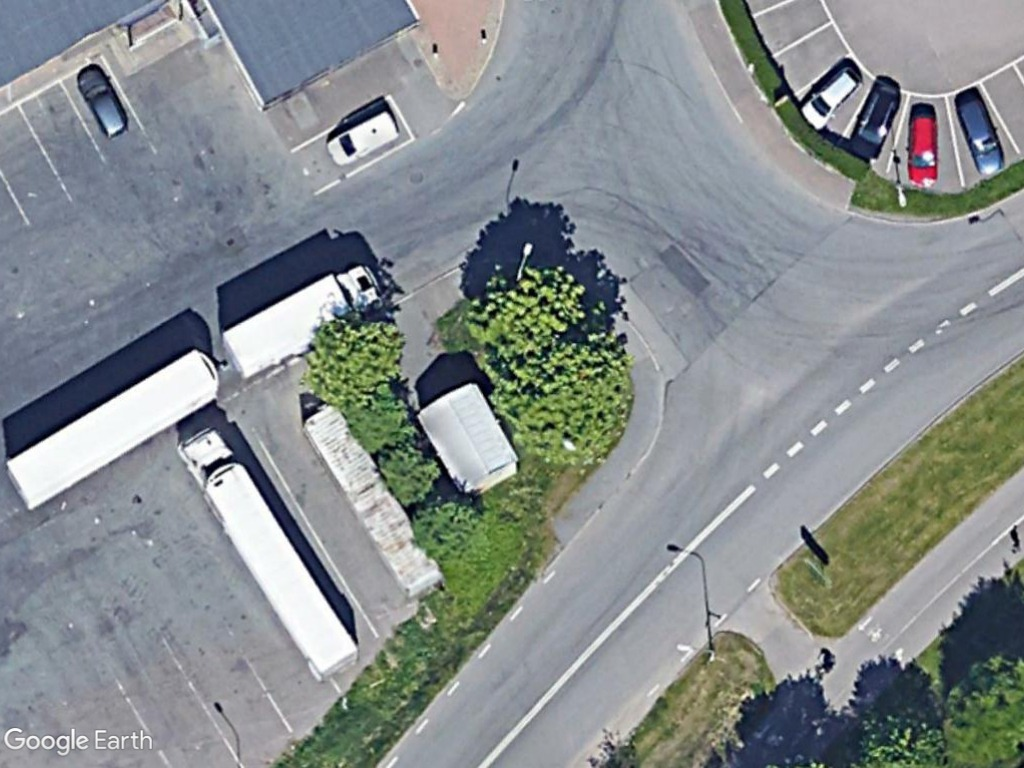car: (841, 71, 910, 167), (947, 85, 1013, 184), (74, 60, 140, 146), (797, 58, 864, 133), (903, 103, 946, 196)
longvehicle: (169, 424, 364, 683)
truck: (213, 257, 384, 382)
van: (321, 104, 400, 170)
